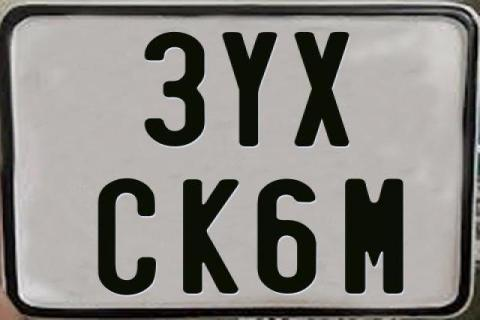0: (254, 177, 319, 293), (144, 31, 206, 148)
C: (98, 176, 158, 294)
K: (181, 179, 239, 293)
M: (345, 178, 407, 296)
X: (292, 32, 352, 149)
Y: (221, 31, 278, 151)
